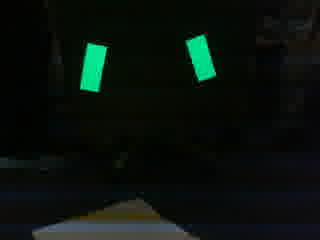target: (79, 33, 216, 95)
